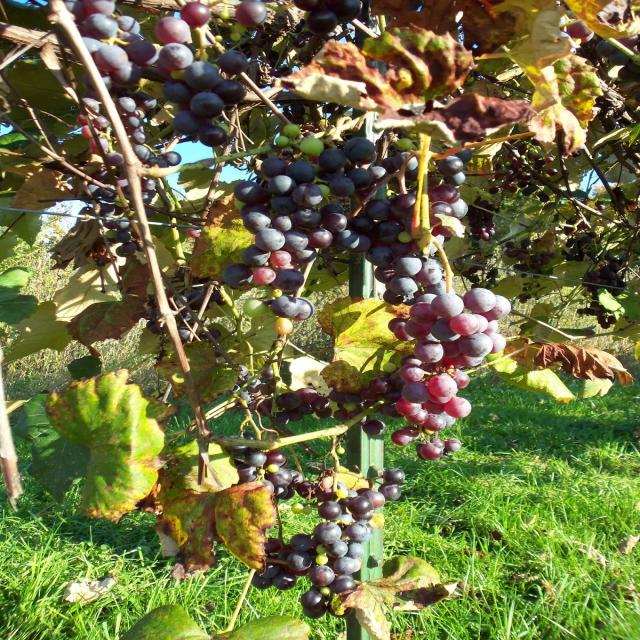grapes: (388, 292, 509, 463), (224, 152, 344, 314), (146, 3, 248, 144), (276, 483, 395, 595)
